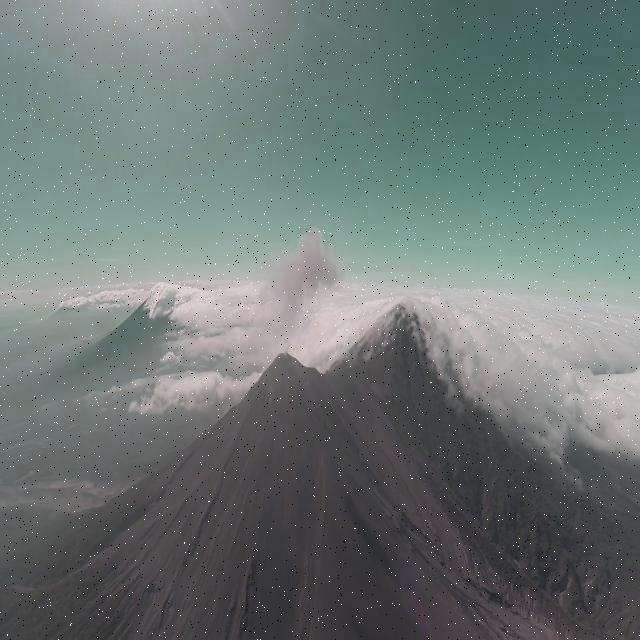Plume: (268, 222, 339, 334)
Summit: (248, 350, 320, 392)
